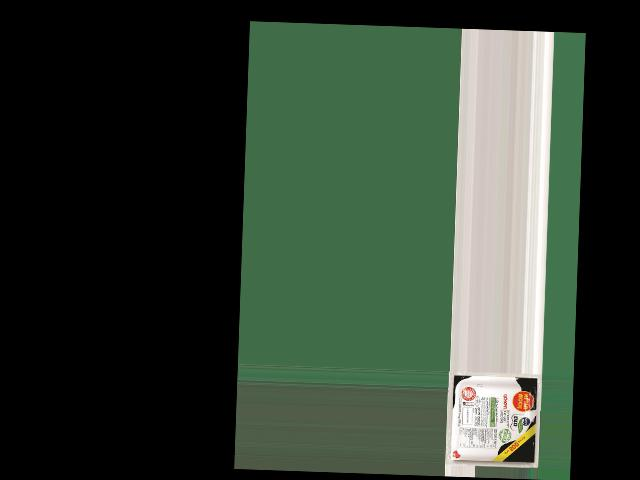cheese: (453, 374, 535, 467)
